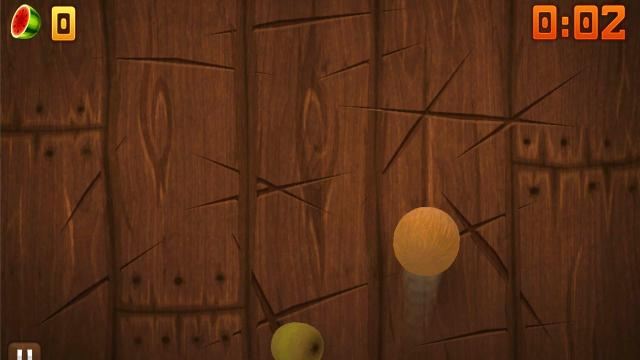fruit: (392, 206, 462, 276), (270, 320, 324, 360)
ignore: (9, 3, 43, 41)
